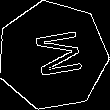M_W: (24, 29, 82, 83)
